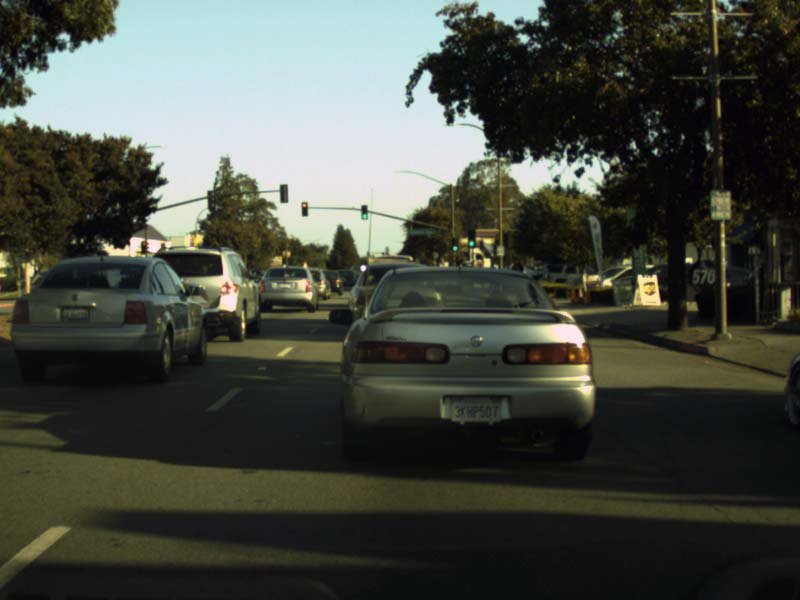Green: (468, 228, 475, 247), (360, 204, 368, 219), (451, 237, 458, 251)
Red: (300, 201, 308, 215)
